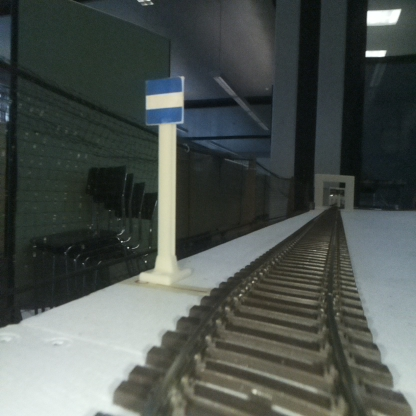start: (145, 79, 182, 280)
